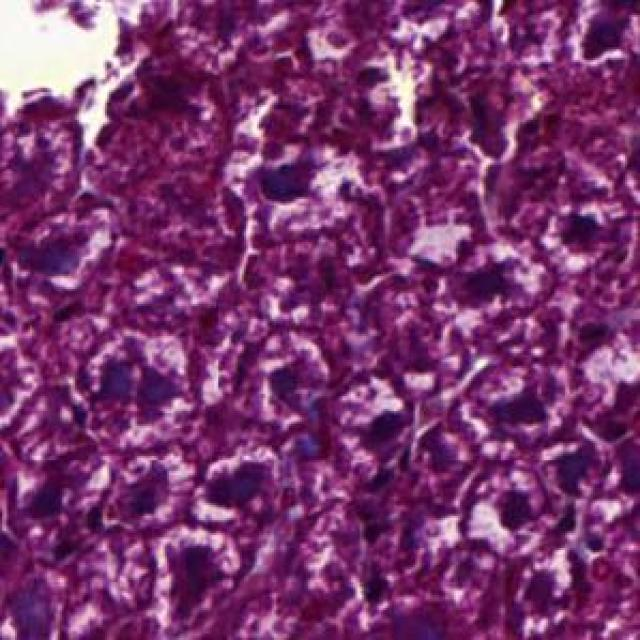inflammation: (146, 526, 244, 623), (462, 466, 556, 558), (193, 454, 289, 531), (248, 154, 332, 212)
